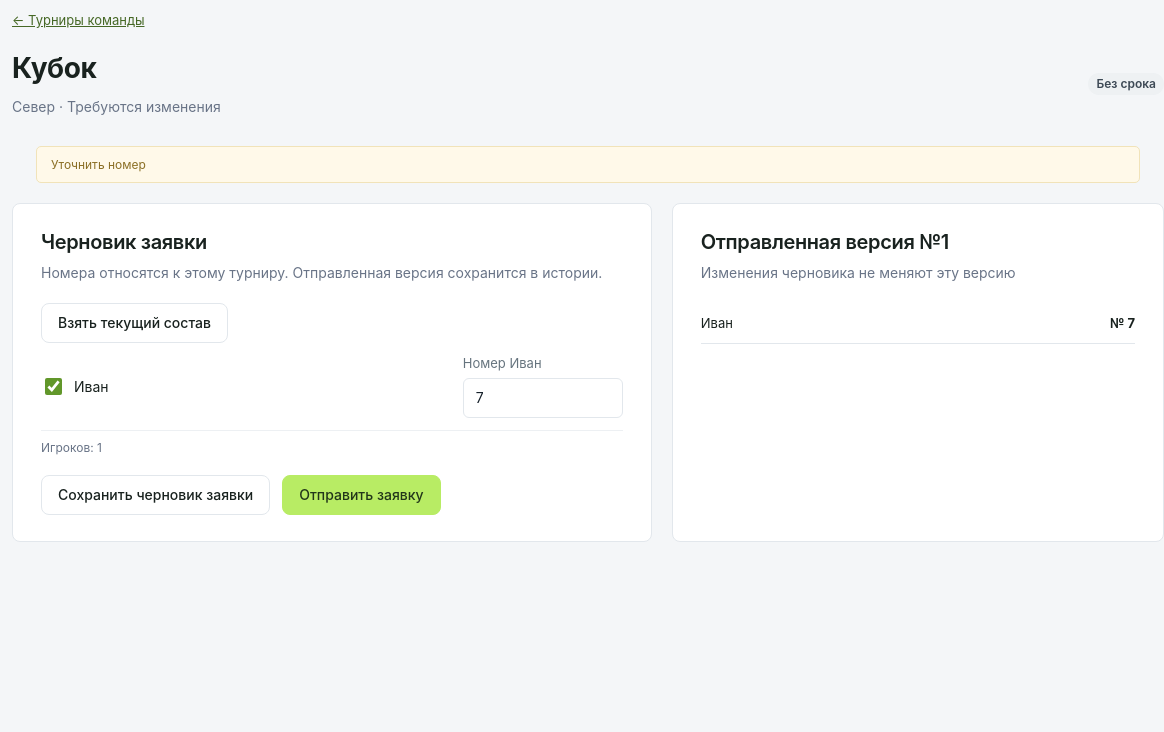
Test: keeps the submitted version visible while draft edits require saving
The width and height of the screenshot is (1164, 732).
Expected: the text "Уточнить номер" is shown, 36,146 -> 1140,183
Expected: the heading "Отправленная версия №1" is shown, 701,230 -> 949,254
Replace the text in the field labelled "Номер Иван" with "9" at (543, 398), box 463,378 -> 623,418
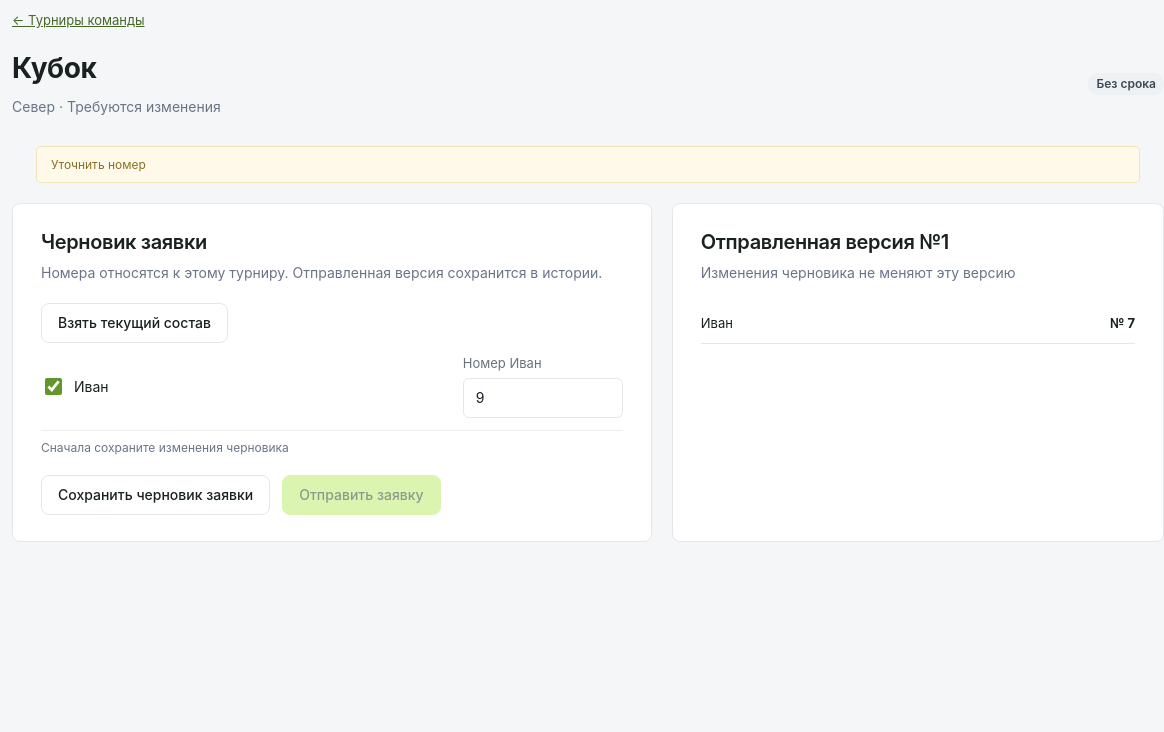
Expected: the text "№ 7" is shown, 1110,315 -> 1135,331
Now the button "Отправить заявку" is disabled, box 282,475 -> 441,515
Now the text "Сначала сохраните изменения черновика" is shown, box 41,440 -> 289,455
